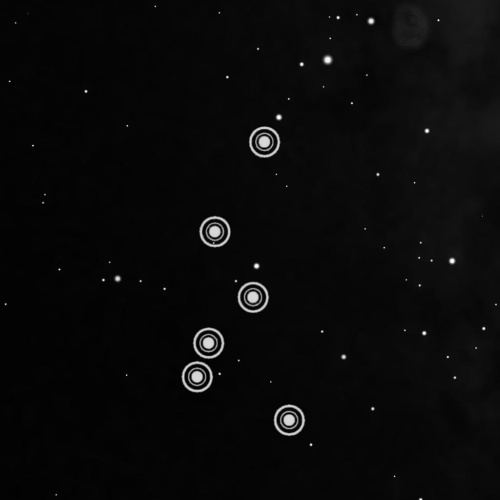cassiopeia: (174, 121, 309, 442)
